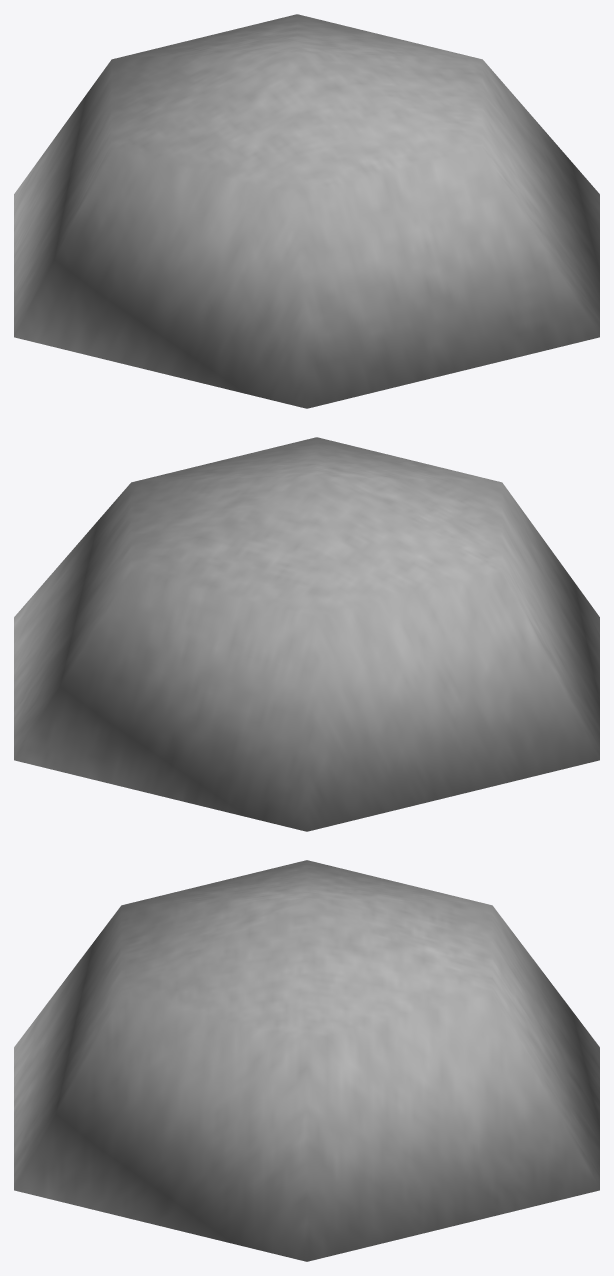
The model's file is dustpile.glb.
3 renders of one model, top to bottom at view 1: azimuth 30°, elevation 25°; view 2: azimuth 150°, elevation 25°; view 3: azimuth 270°, elevation 25°, orthographic.
Parts seen in each view (by area): view 1: DustPile; view 2: DustPile; view 3: DustPile.
Boxes of the visible parts, x1=… form: DustPile: x1=14, y1=14, x2=599, y2=408; DustPile: x1=14, y1=437, x2=599, y2=831; DustPile: x1=14, y1=860, x2=599, y2=1261.
Bounding box in the file's own units: 0.6 × 0.21 × 0.5196.
1 material, 1 textured.
